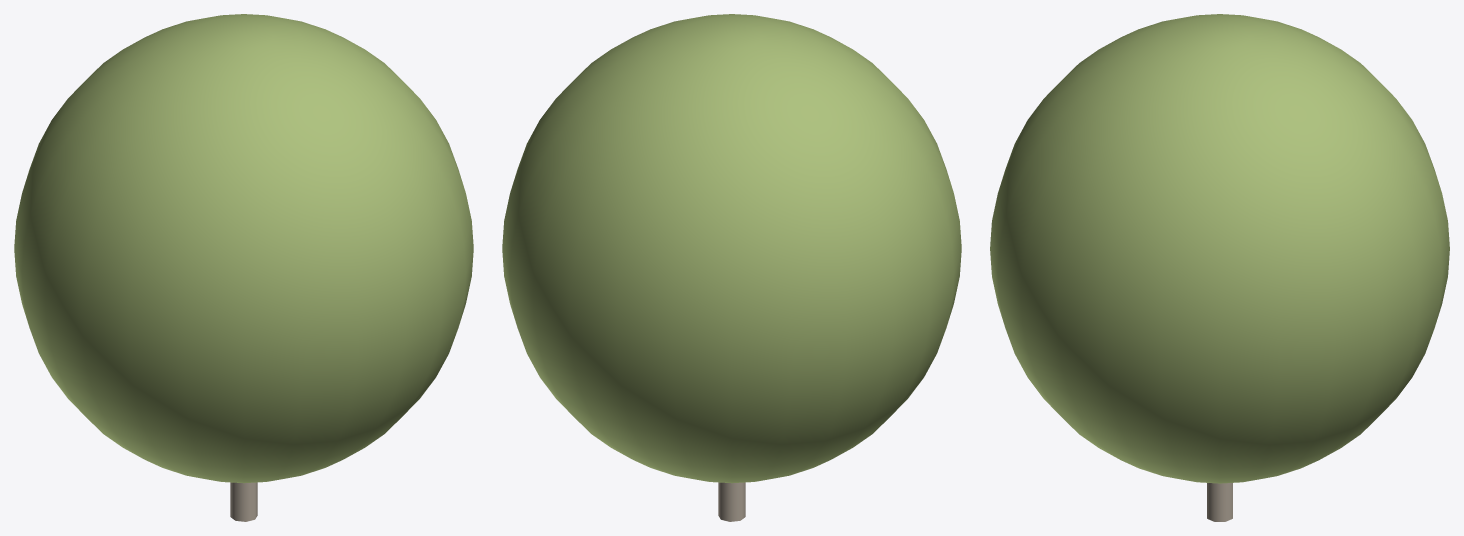
File: SalixAlba.glb
3 views of the same model, side by side, from view 1: azimuth 30°, elevation 25°; view 2: azimuth 150°, elevation 25°; view 3: azimuth 270°, elevation 25° (orthographic).
Visible parts, largest first — view 1: White_Willow__Schematic_LOD3; view 2: White_Willow__Schematic_LOD3; view 3: White_Willow__Schematic_LOD3.
Part boxes in pixels (left/top/right/bottom): White_Willow__Schematic_LOD3: left=14, top=14, right=473, bottom=521; White_Willow__Schematic_LOD3: left=502, top=14, right=961, bottom=521; White_Willow__Schematic_LOD3: left=990, top=14, right=1449, bottom=521.
Bounding box in the file's own units: 18.8 × 21.72 × 18.8.
